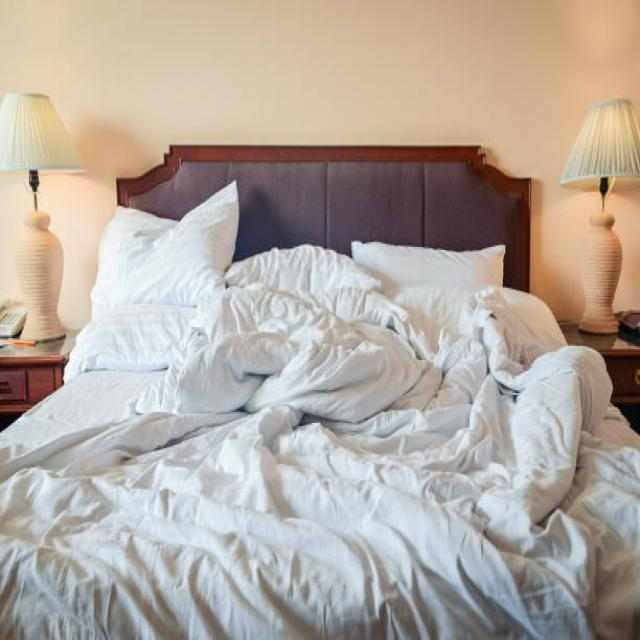bed: (8, 204, 600, 602)
